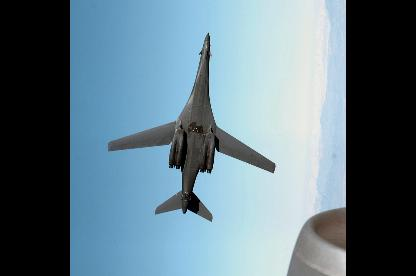AV8B: (107, 31, 275, 221)
